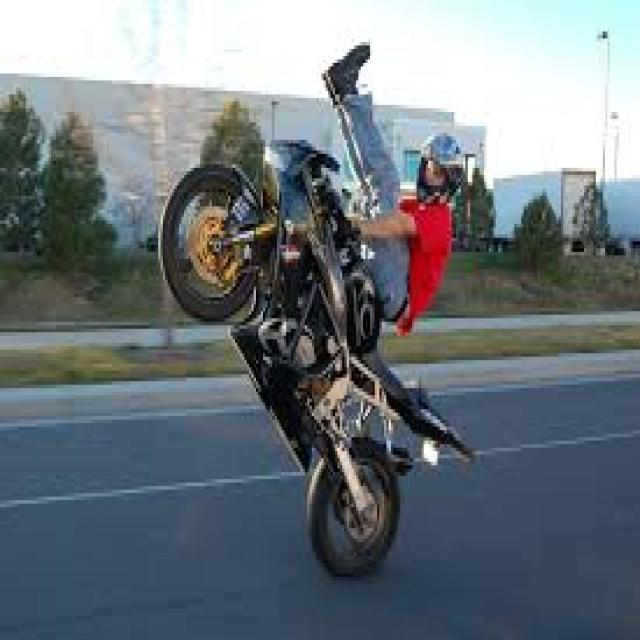Wheeling: (167, 36, 486, 577)
